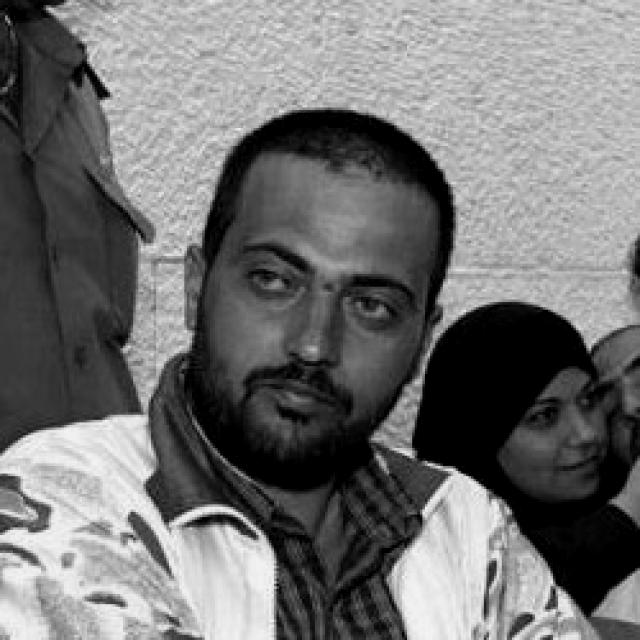real: (178, 96, 454, 476), (230, 242, 411, 335)
